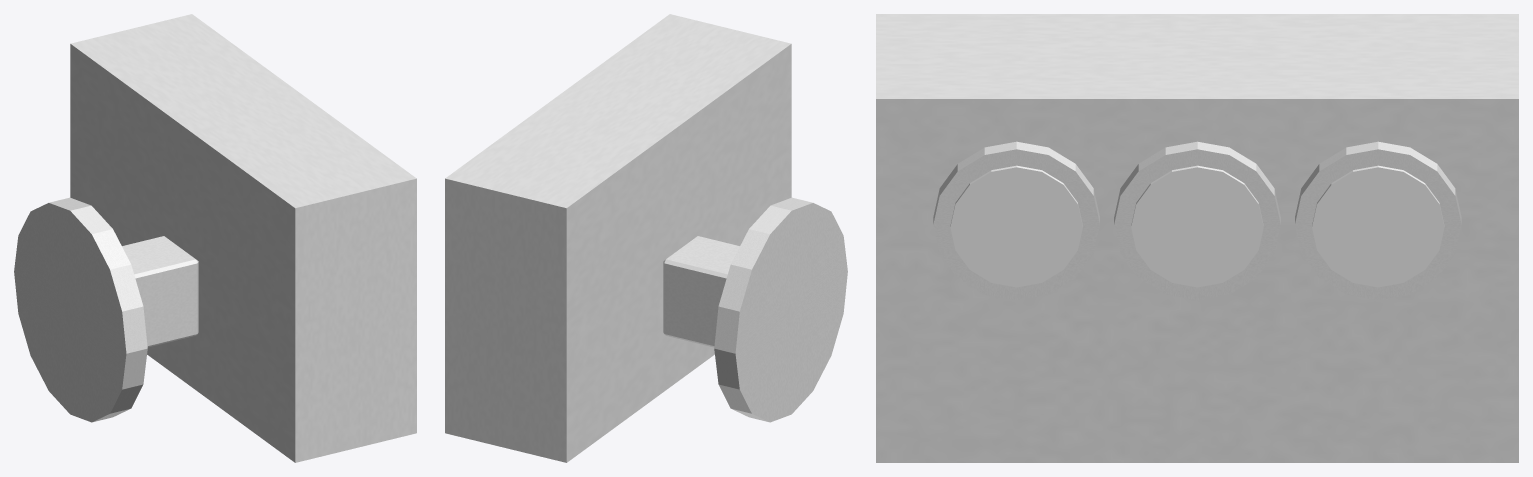
Rendered from partywashlight.obj.
3 renders of one model, left to right at view 1: azimuth 30°, elevation 25°; view 2: azimuth 150°, elevation 25°; view 3: azimuth 270°, elevation 25°, orthographic. The views are drawn at different scales.
Parts seen in each view (by area): view 1: Head0Metal, Base, Metal; view 2: Head0Metal, Base, Metal; view 3: Head0Metal, Head0Trim, Light0, Light2, Light1.
Boxes of the visible parts, x1,y1,x2,y2 form: Head0Metal: [70, 14, 416, 462]; Base: [14, 197, 147, 422]; Metal: [122, 236, 198, 347]; Head0Metal: [445, 14, 791, 462]; Base: [714, 197, 847, 422]; Metal: [663, 236, 739, 347]; Head0Metal: [876, 14, 1518, 462]; Head0Trim: [933, 141, 1461, 300]; Light0: [1312, 165, 1444, 287]; Light2: [950, 165, 1082, 287]; Light1: [1131, 165, 1263, 287].
Size of the model in its own units: 0.409 by 0.41 by 0.64.
